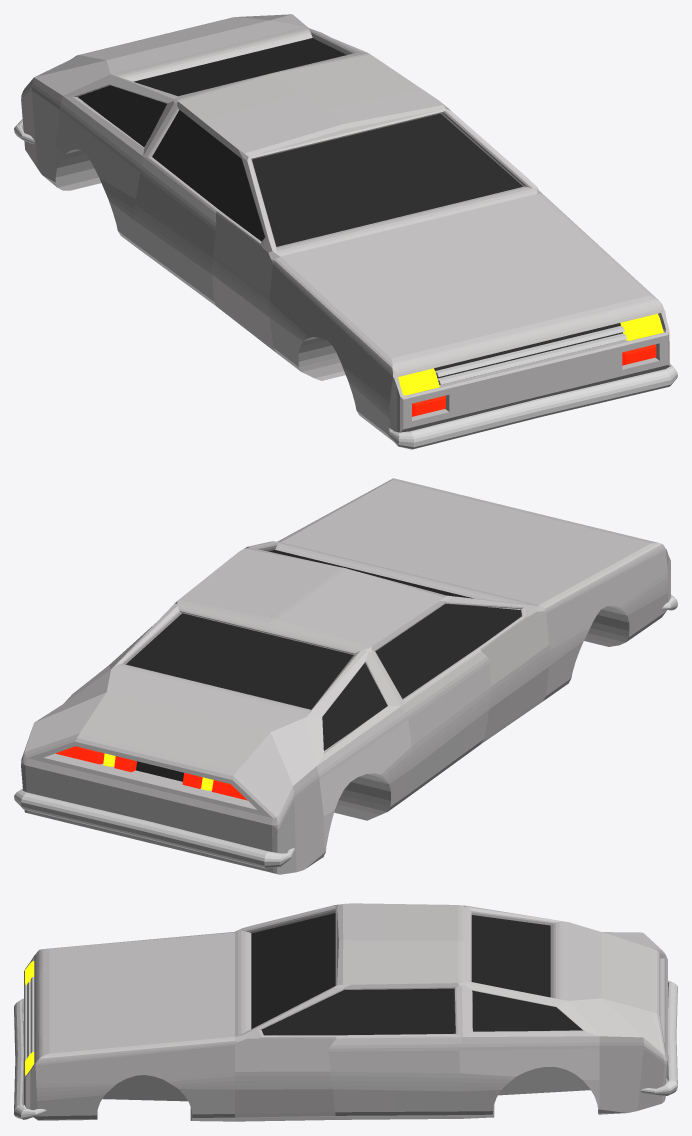
Rendered from Delorian.fbx.
3 renders of one model, top to bottom at view 1: azimuth 30°, elevation 25°; view 2: azimuth 150°, elevation 25°; view 3: azimuth 270°, elevation 25°, orthographic. The views are drawn at different scales.
Visible parts, largest first — view 1: Delorian, windows, frontLight, frontBumper; view 2: Delorian, windows, backBumper, backLight; view 3: Delorian, windows, frontBumper, backBumper, frontLight.
Part boxes in pixels (x1,y1,x2,y2): Delorian: [21, 14, 669, 441]; windows: [77, 38, 522, 246]; frontLight: [398, 313, 663, 416]; frontBumper: [387, 363, 677, 449]; Delorian: [21, 478, 670, 874]; windows: [126, 550, 521, 750]; backBumper: [14, 788, 294, 868]; backLight: [56, 746, 247, 800]; Delorian: [24, 903, 667, 1121]; windows: [251, 913, 582, 1035]; frontBumper: [14, 998, 46, 1119]; backBumper: [640, 980, 677, 1096]; frontLight: [25, 961, 34, 1075].
Size of the model in its own units: 392 by 217 by 960.
